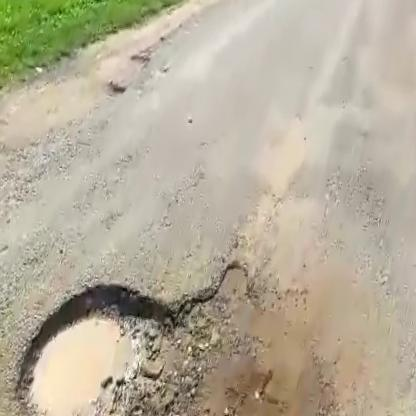pothole: (0, 222, 363, 416)
